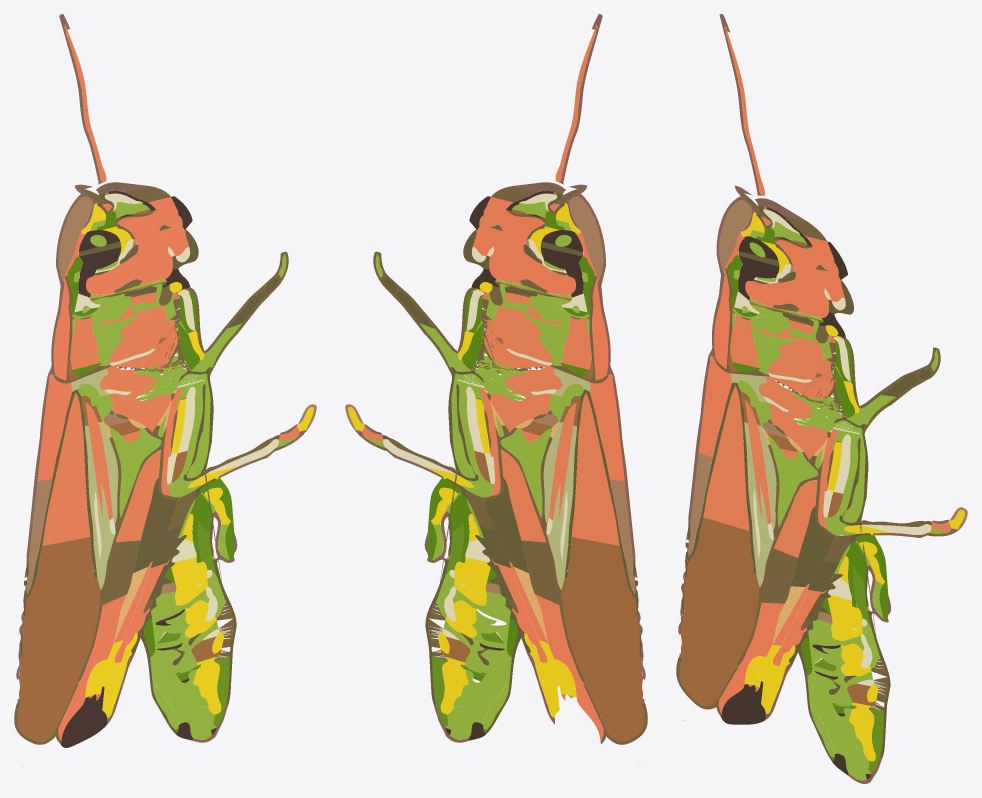
File: Grashopper.glb
The picture shows the model from 3 angles, left to right: view 1: azimuth 30°, elevation 25°; view 2: azimuth 150°, elevation 25°; view 3: azimuth 330°, elevation 25°; orthographic projection. The views are drawn at different scales.
Parts seen in each view (by area): view 1: Grashopper, GrashopperAntenna; view 2: Grashopper, GrashopperAntenna; view 3: Grashopper, GrashopperAntenna.
Part boxes in pixels (left/top/right/bottom): Grashopper: left=14, top=27, right=316, bottom=765; GrashopperAntenna: left=59, top=14, right=106, bottom=184; Grashopper: left=345, top=27, right=647, bottom=765; GrashopperAntenna: left=555, top=14, right=602, bottom=184; Grashopper: left=676, top=29, right=967, bottom=783; GrashopperAntenna: left=719, top=14, right=764, bottom=195.
Bounding box in the file's own units: 0.2584 × 0.6228 × 3.46e-06.
